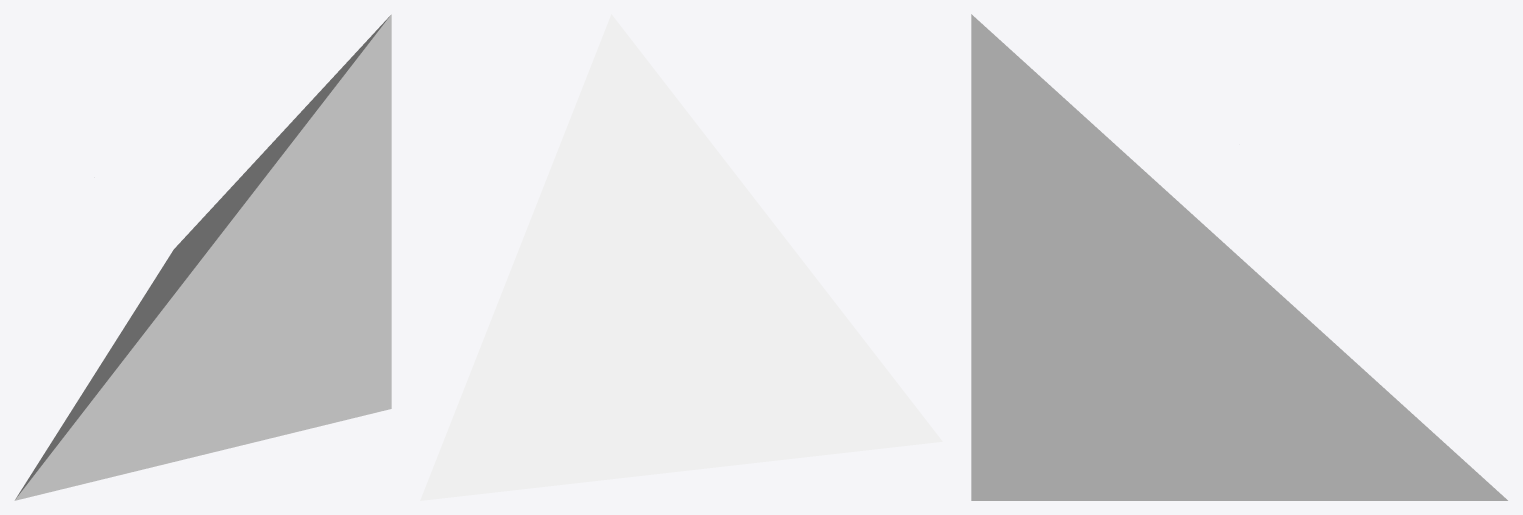
File: Pol_XieSanLengZhui_FG_1X1_on.FBX
The picture shows the model from 3 angles, left to right: view 1: azimuth 30°, elevation 25°; view 2: azimuth 150°, elevation 25°; view 3: azimuth 270°, elevation 25°; orthographic projection. The views are drawn at different scales.
Parts seen in each view (by area): view 1: Box003; view 2: Box003; view 3: Box003.
Part boxes in pixels (x1=…): Box003: x1=14, y1=14, x2=391, y2=500; Box003: x1=420, y1=14, x2=942, y2=500; Box003: x1=971, y1=14, x2=1507, y2=500.
Size of the model in its own units: 1 by 1 by 1.
